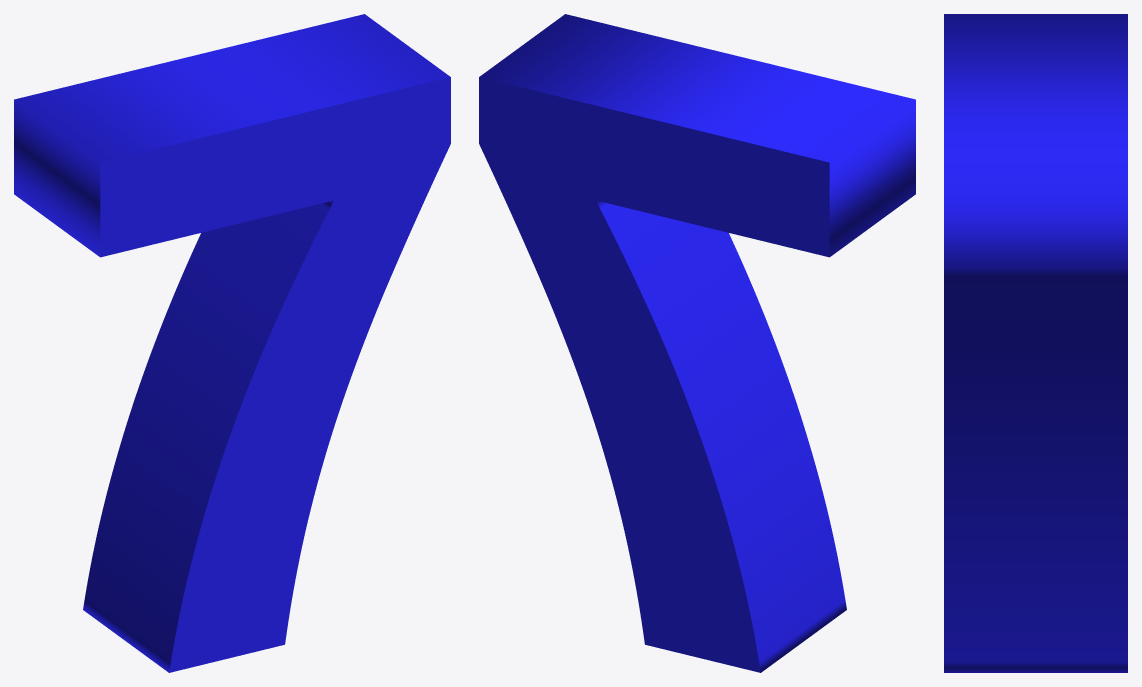
Rendered from score7.glb.
3 views of the same model, side by side, from view 1: azimuth 30°, elevation 25°; view 2: azimuth 150°, elevation 25°; view 3: azimuth 270°, elevation 25° (orthographic). The views are drawn at different scales.
Visible parts, largest first — view 1: Text-col; view 2: Text-col; view 3: Text-col.
Part boxes in pixels (bbox=[...]): Text-col: bbox=[14, 14, 450, 672]; Text-col: bbox=[479, 14, 915, 672]; Text-col: bbox=[944, 14, 1127, 672].
Bounding box in the file's own units: 0.2818 × 0.405 × 0.12.
